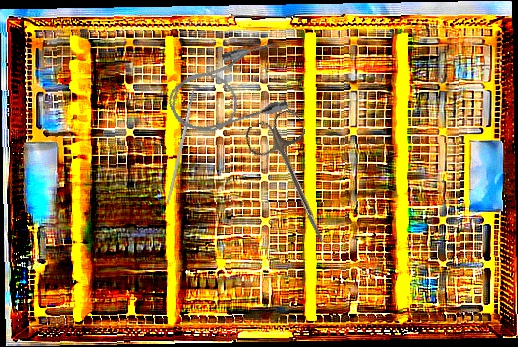Cannula: (159, 37, 298, 143)
Iris Scissors: (241, 106, 352, 254)
Scalpel Handle: (165, 90, 197, 205)
